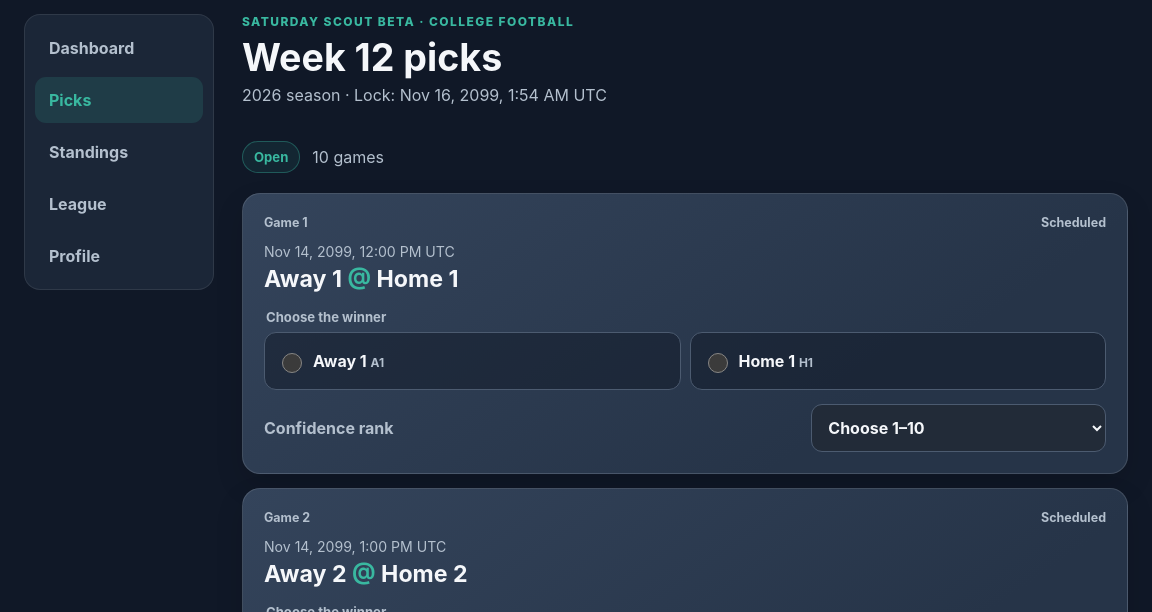
Test: React Picks workflow › preserves local selections and does not retry when a failed save was not committed
This screenshot has width=1152, height=612.
Click the radio button labelled "Away 1 A1". click: coordinates (292, 363)
box: [282,353,302,373]
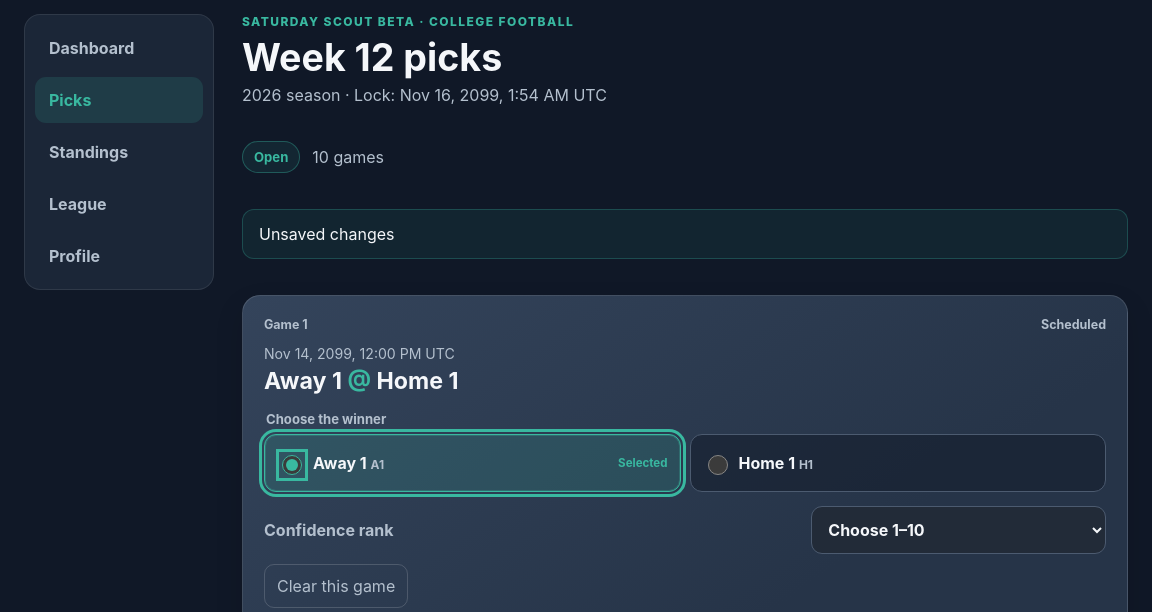
Select "1" in the dropdown named "Confidence rank for Away 1 at Home 1". click: coordinates (959, 530)
box: [811,506,1106,554]
(page scrolled)
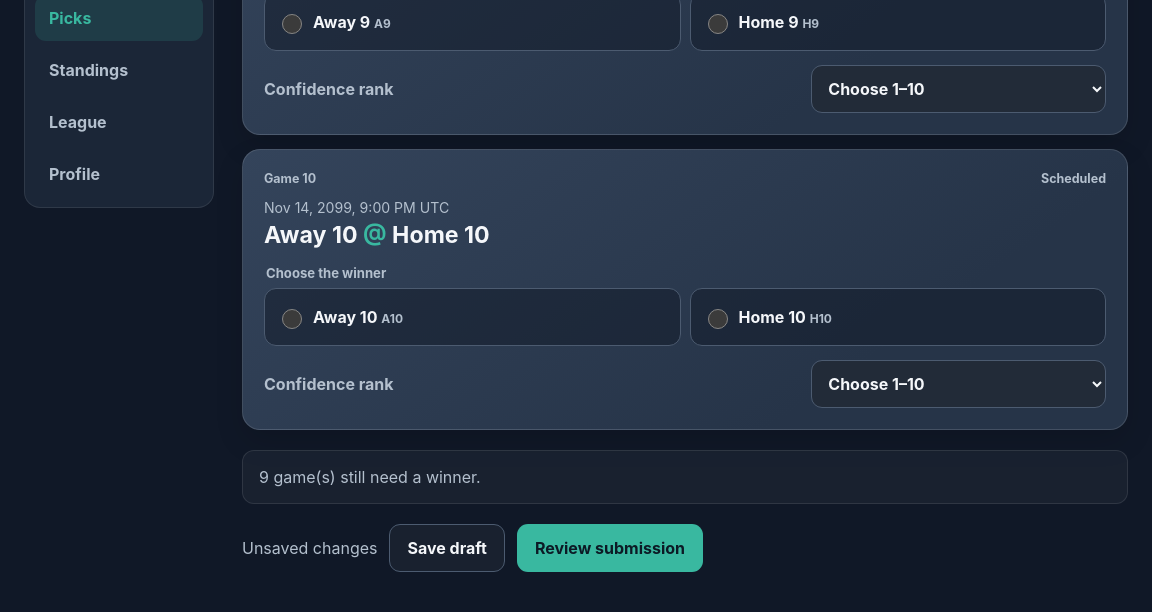
Click the button "Save draft". click: coordinates (447, 548)
box: [390,524,505,572]
(page scrolled)
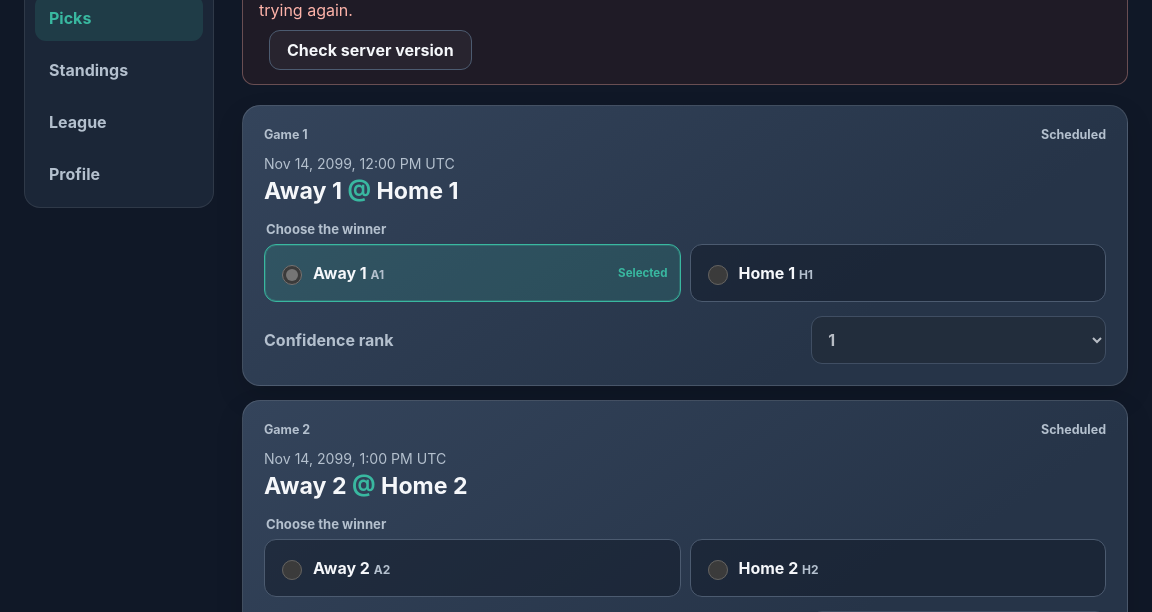
Check: the radio button labelled "Away 1 A1 Selected" is checked, box [282,265,302,285]
Check: the button "Check server version" is shown, box [269,30,472,70]
